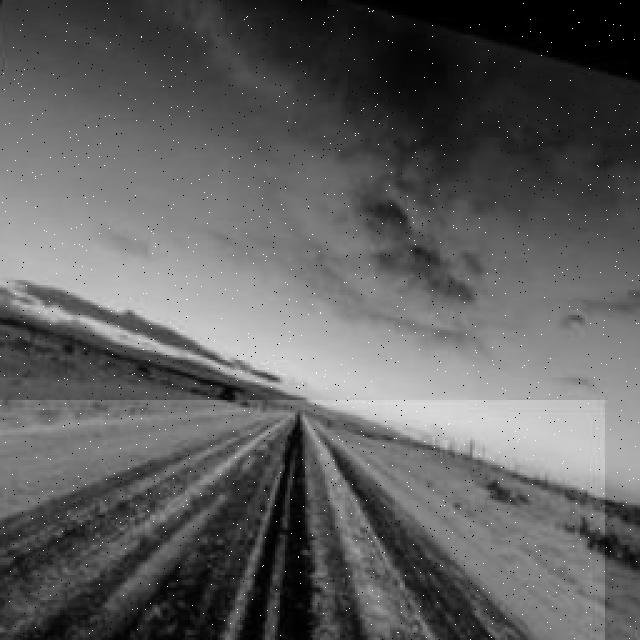ice-road: (0, 400, 524, 640)
